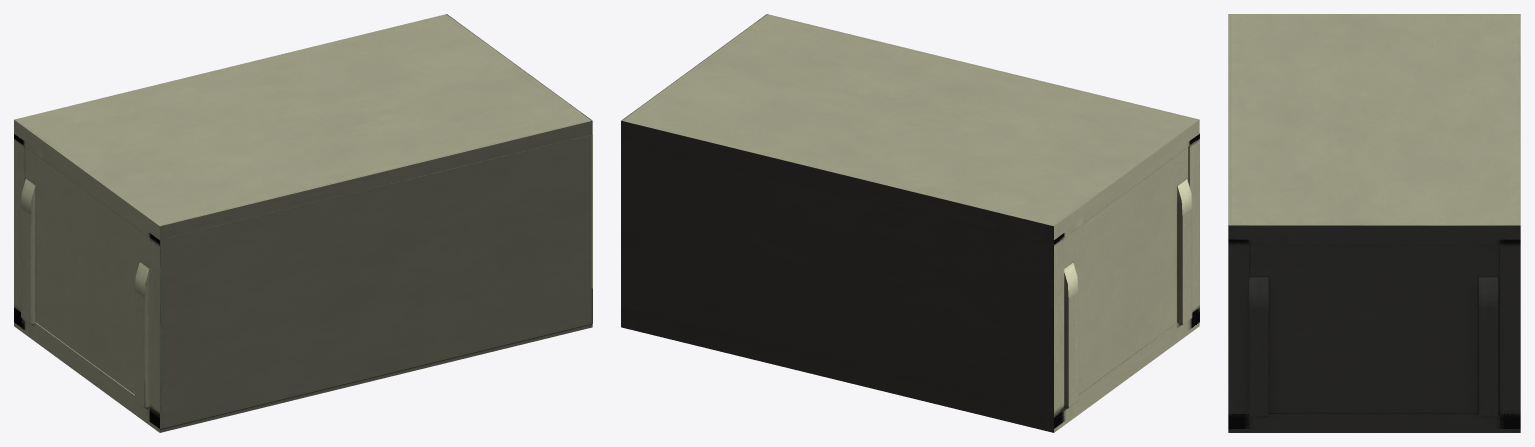
Rendered from endBUILD2.glb.
3 views of the same model, side by side, from view 1: azimuth 30°, elevation 25°; view 2: azimuth 150°, elevation 25°; view 3: azimuth 270°, elevation 25° (orthographic).
Visible parts, largest first — view 1: pCube1; view 2: pCube1; view 3: pCube1.
Part boxes in pixels (box(x1,y1,x2,y2)): pCube1: box(14, 14, 592, 432); pCube1: box(621, 14, 1199, 432); pCube1: box(1228, 14, 1520, 432).
Size of the model in its own units: 44.24 by 19.82 by 25.37.
1 material, 1 textured.
